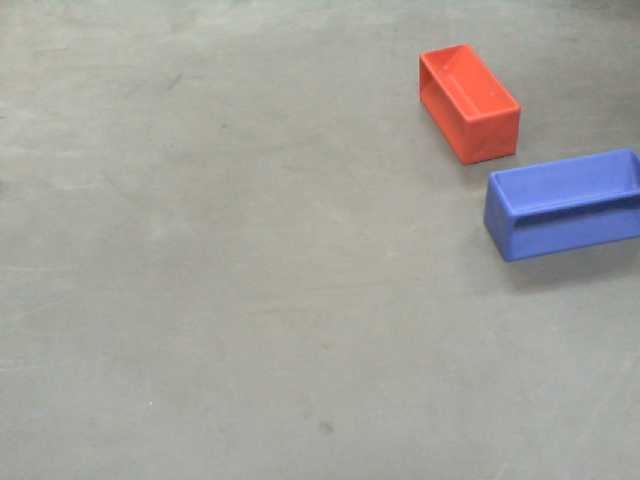BlueSample: (483, 151, 640, 261)
RedSample: (416, 41, 522, 167)
